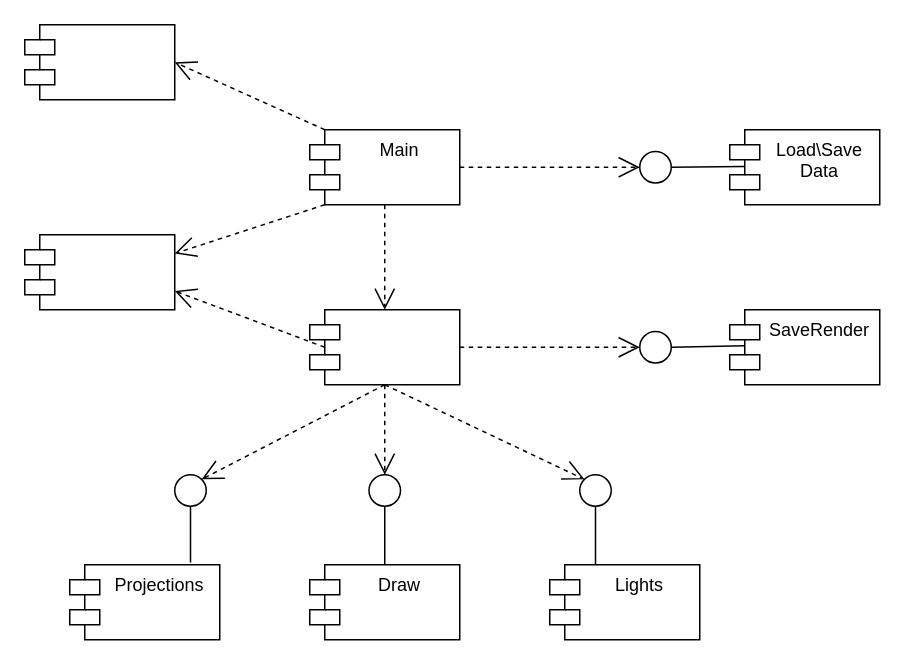
Some shapes in this 905 by 665 pixel diagram are drawn without their labels. Each missing label, with the centre of its shape:
"GUI" goes at (x=99, y=271).
"Help" goes at (x=99, y=61).
"Render" goes at (x=384, y=346).
